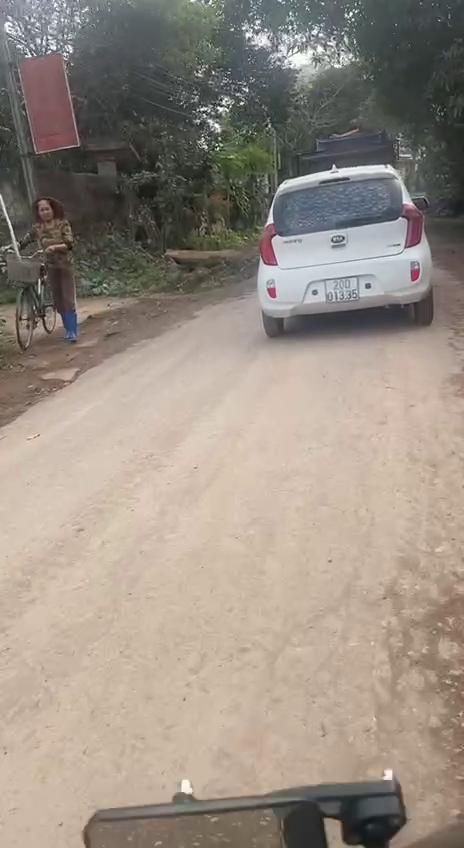pothole: (368, 572, 464, 759)
